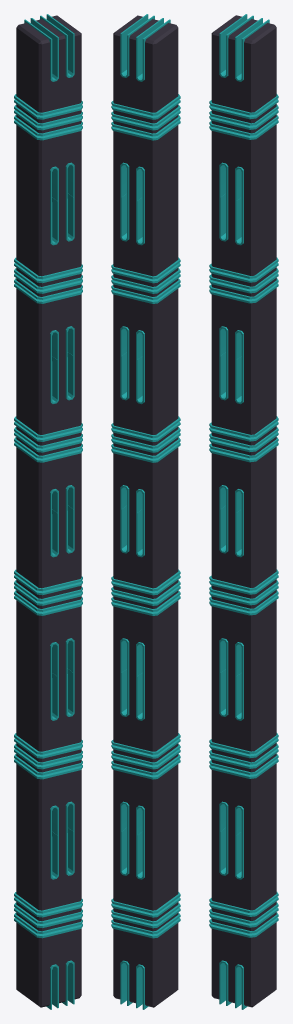
File: wall gen 1.fbx
3 renders of one model, left to right at view 1: azimuth 30°, elevation 25°; view 2: azimuth 150°, elevation 25°; view 3: azimuth 330°, elevation 25°, orthographic.
Visible parts, largest first — view 1: polySurface1523; view 2: polySurface1523; view 3: polySurface1523.
Boxes of the visible parts, x1,y1,x2,y2 form: polySurface1523: (14, 14, 82, 1009); polySurface1523: (111, 14, 180, 1009); polySurface1523: (209, 14, 278, 1009).
Size of the model in its own units: 29.86 by 599 by 29.91.
